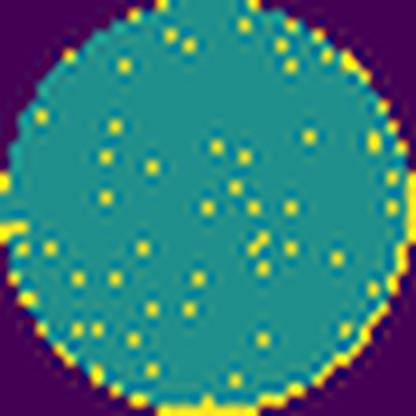Edge-Loc: (153, 171, 416, 415)
